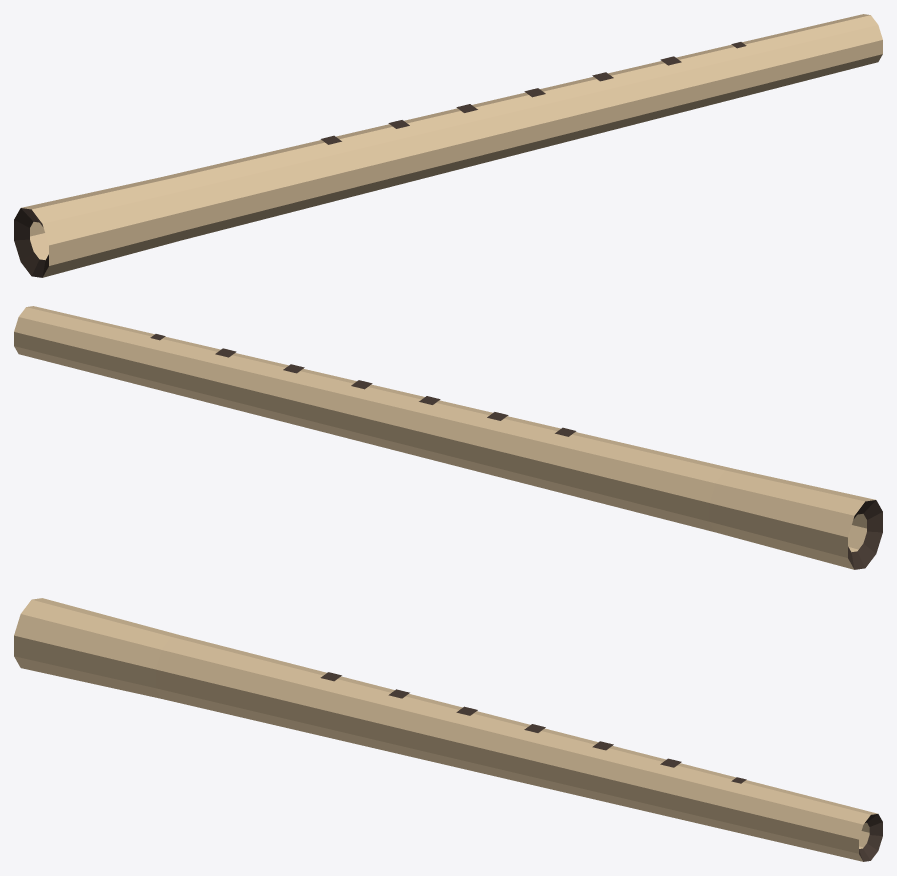
Rendered from prop-recorder-body-blank.fbx.
3 views of the same model, one above another, from view 1: azimuth 30°, elevation 25°; view 2: azimuth 150°, elevation 25°; view 3: azimuth 330°, elevation 25° (orthographic).
Parts seen in each view (by area): view 1: prop-recorder-body-blank; view 2: prop-recorder-body-blank; view 3: prop-recorder-body-blank.
Boxes of the visible parts, box(x1,y1,x2,y2) form: prop-recorder-body-blank: box(14, 14, 882, 277); prop-recorder-body-blank: box(14, 306, 882, 569); prop-recorder-body-blank: box(14, 598, 882, 861).
Size of the model in its own units: 42 by 3.2 by 3.04.
